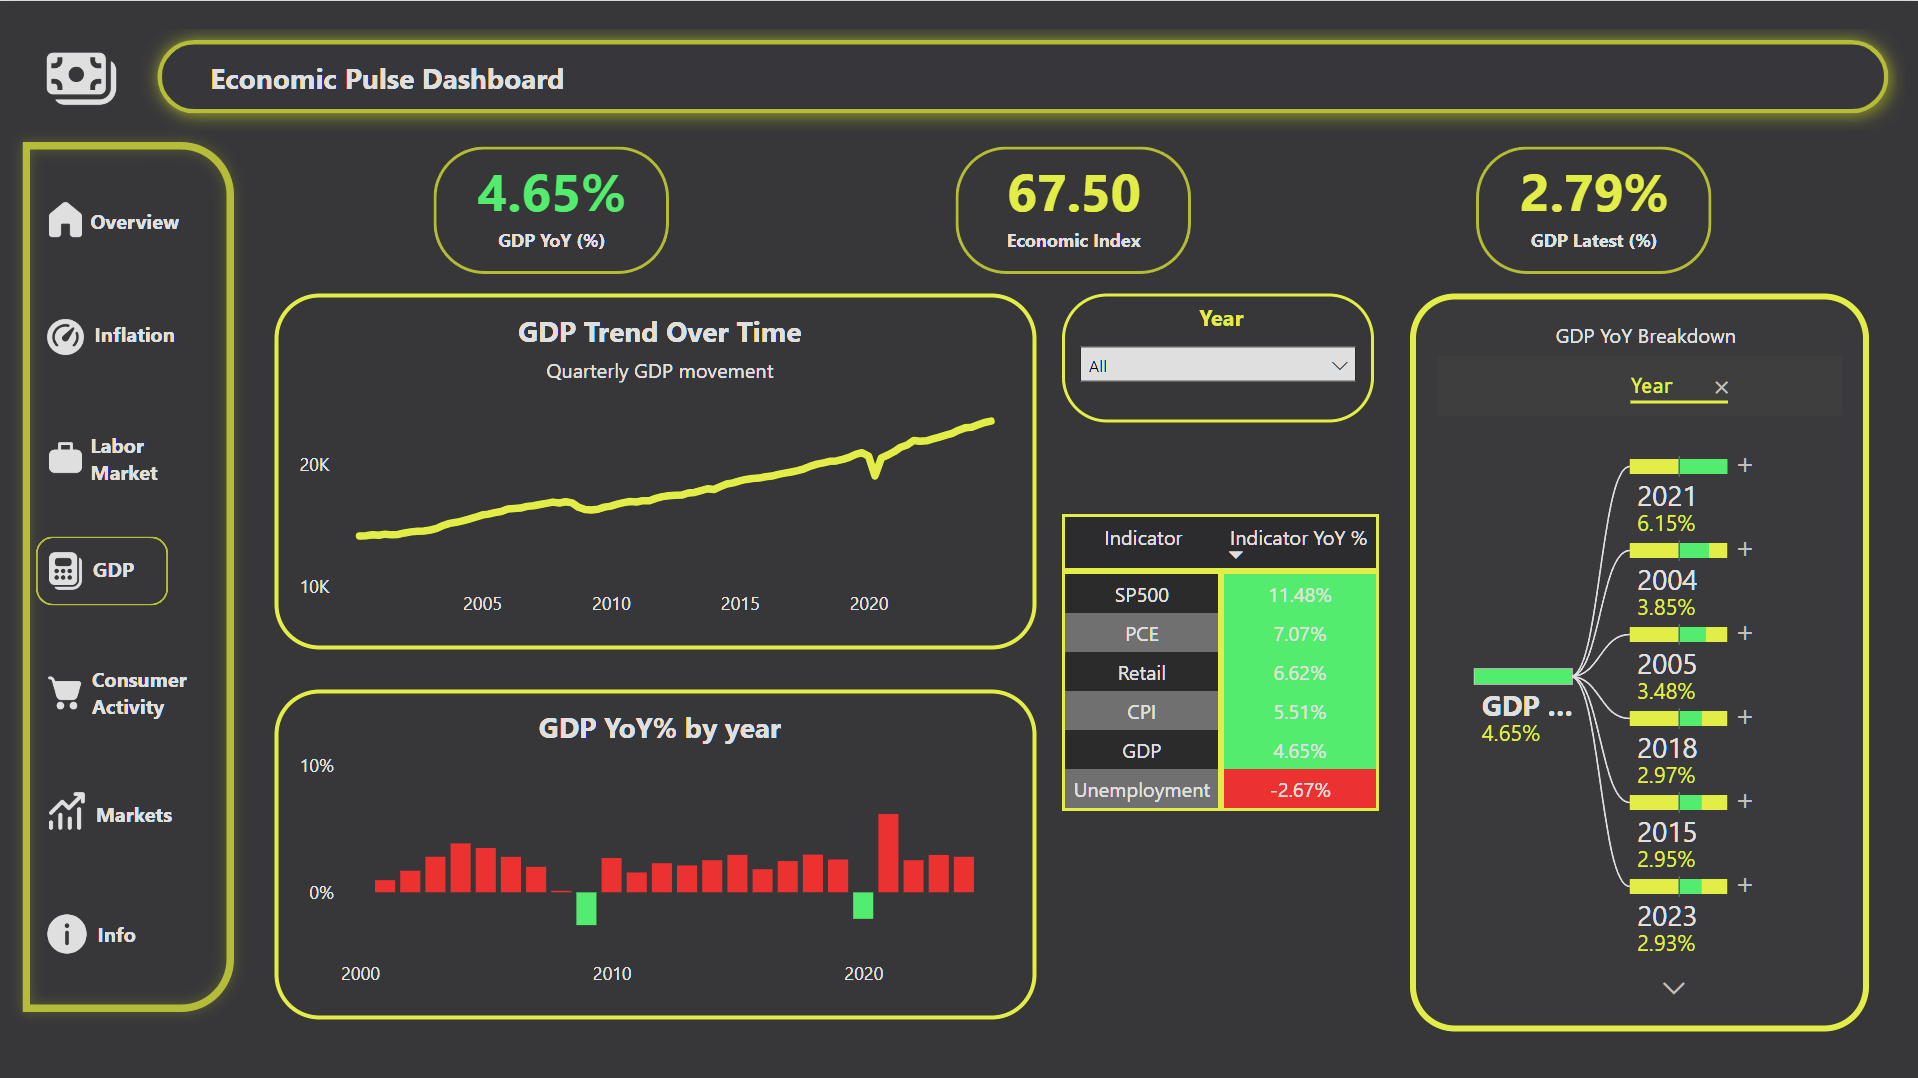

Layout of this report page (visuals, bound fields, positions):
{"tool":"powerbi","page":{"name":"GDP & Economic Output","canvas":[1280,720],"ordinal":3},"visuals":[{"type":"shape","title":"Economic Pulse Dashboard","box":[94.1,14.9,1176.2,70.8],"z":0},{"type":"group","id":"g1","title":"Group 1","box":[637.4,94.1,154.4,91.5],"z":0,"group":"g16"},{"type":"shape","box":[289.1,96.7,156.7,85.2],"z":0,"group":"g6"},{"type":"shape","box":[637.4,96.7,156.7,85.2],"z":0,"group":"g1"},{"type":"shape","box":[983.7,96.7,156.7,85.2],"z":0,"group":"g4"},{"type":"image","box":[29.2,195.4,29.6,58.1],"z":0,"group":"g3"},{"type":"image","box":[14.4,23.2,80,54.4],"z":1000},{"type":"card","fields":{"Values":["Measures_YoY.GDP YoY %"]},"box":[291.8,94.1,151.3,90.5],"z":1000,"group":"g6"},{"type":"card","fields":{"Values":["Measures_Scoring.Economic Index"]},"box":[640.1,94.1,151.3,90.5],"z":1000,"group":"g1"},{"type":"card","fields":{"Values":["Measures_YoY.GDP YoY %"]},"box":[986.4,94.1,151.3,90.5],"z":1000,"group":"g4"},{"type":"textbox","box":[38.6,207.6,102.6,51.8],"z":1000,"group":"g3"},{"type":"shape","box":[6.6,85.8,157.2,595.8],"z":2000},{"type":"shape","box":[17.4,201,104.4,47.4],"z":2000,"group":"g3"},{"type":"group","id":"g2","title":"Group 3","box":[23.4,116.7,112.1,79.1],"z":3000},{"type":"image","box":[29.2,116.7,29.6,58.1],"z":4000,"group":"g2"},{"type":"group","id":"g3","title":"Group 4","box":[17.4,195.4,123.8,64],"z":4000},{"type":"textbox","box":[56.5,436.7,76.2,69.6],"z":4000,"group":"g10"},{"type":"group","id":"g4","title":"Group 1","box":[983.7,94.1,156.3,90.5],"z":5000,"group":"g15"},{"type":"group","id":"g5","title":"Group 10","box":[24,351.2,87.6,69.6],"z":5000},{"type":"image","box":[29.2,351.2,29.6,58.1],"z":5000,"group":"g7"},{"type":"group","id":"g6","title":"Group 1","box":[289.1,94.1,156.3,90.5],"z":6000,"group":"g15"},{"type":"image","box":[29.2,276.1,29.6,58.1],"z":6000,"group":"g13"},{"type":"group","id":"g7","title":"Group 6","box":[29.2,351.2,80.9,69.6],"z":6000,"group":"g5"},{"type":"group","id":"g8","title":"Group 11","box":[25.2,432,107.5,74.4],"z":6000},{"type":"image","box":[29.2,432,29.6,58.1],"z":6000,"group":"g10"},{"type":"textbox","box":[44.2,131.8,91.3,64],"z":7000,"group":"g2"},{"type":"group","id":"g9","title":"Group 12","box":[22.2,511.4,125.6,76.2],"z":7000},{"type":"image","box":[29.2,511.4,29.6,58.1],"z":7000,"group":"g12"},{"type":"textbox","box":[41.4,364.4,68.7,56.5],"z":8000,"group":"g7"},{"type":"group","id":"g10","title":"Group 7","box":[29.2,432,103.5,74.4],"z":8000,"group":"g8"},{"type":"group","id":"g11","title":"Group 13","box":[14.4,593.2,111.7,59.3],"z":8000},{"type":"textbox","box":[54.6,280.8,90.4,89.4],"z":9000},{"type":"group","id":"g12","title":"Group 8","box":[29.2,511.4,118.6,76.2],"z":9000,"group":"g9"},{"type":"image","box":[29.2,593.2,30.6,58.1],"z":9000,"group":"g14"},{"type":"group","id":"g13","title":"Group 5","box":[23.4,276.1,93,58.1],"z":10000},{"type":"textbox","box":[30.1,527.4,117.6,60.2],"z":10000,"group":"g12"},{"type":"group","id":"g14","title":"Group 9","box":[29.2,593.2,96.9,59.3],"z":10000,"group":"g11"},{"type":"shape","box":[23.4,124.2,104.4,47.4],"z":10001,"group":"g2"},{"type":"group","id":"g15","title":"Group 2","box":[289.1,94.1,850.9,91.5],"z":11000},{"type":"shape","box":[23.4,281.4,93,47.4],"z":11000,"group":"g13"},{"type":"textbox","box":[29.2,607.3,96.9,45.2],"z":11000,"group":"g14"},{"type":"decompositionTreeVisual","fields":{"ExplainBy":["Calendar.Year","Labor_Market_Merged.Unemployment_YoY","Labor_Market_Merged.Retail_YoY","Labor_Market_Merged.PCE_YoY","Labor_Market_Merged.CPI_YoY","Labor_Market_Merged.SP500_YoY"],"Analyze":["Measures_YoY.GDP YoY %"]},"box":[940.2,195.1,305.6,492.1],"z":12000},{"type":"shape","box":[24,357.5,87.6,45.7],"z":12002,"group":"g5"},{"type":"shape","box":[25.2,437.4,104.4,47.4],"z":12004,"group":"g8"},{"type":"shape","box":[22.2,516.6,104.4,47.4],"z":12006,"group":"g9"},{"type":"shape","box":[14.4,598.8,104.4,47.4],"z":12008,"group":"g11"},{"type":"group","id":"g16","title":"Group 14","box":[637.4,94.1,154.4,91.5],"z":13000,"group":"g15"},{"type":"lineChart","title":"GDP Trend Over Time","fields":{"Y":["Sum(GDP.GDP_Value)"],"Category":["Calendar.Date"]},"box":[183,195.1,507.6,236.5],"z":13000},{"type":"clusteredColumnChart","title":"GDP YoY% by year ","fields":{"Category":["Calendar.Year"],"Y":["Measures_YoY.GDP YoY %"]},"box":[182.9,459.3,507.9,220.1],"z":14000},{"type":"pivotTable","fields":{"Rows":["Indicators.Indicator"],"Values":["Measures_YoY.Indicator YoY %"]},"box":[707.9,341.9,219.3,237.4],"z":15000},{"type":"slicer","title":"Year","fields":{"Values":["Calendar.Year"]},"box":[707.9,195.1,208.1,86.3],"z":16000}]}

Visuals, with their boxes in screenshot pixels (x1, y1, x2, y2), scaled from the page's 1280x720 canvas onto the 1918x1078 screenshot:
"Economic Pulse Dashboard" shape: (x1=141, y1=22, x2=1903, y2=128)
"Group 1" group: (x1=955, y1=141, x2=1186, y2=278)
shape: (x1=433, y1=145, x2=668, y2=272)
shape: (x1=955, y1=145, x2=1190, y2=272)
shape: (x1=1474, y1=145, x2=1709, y2=272)
image: (x1=44, y1=293, x2=88, y2=380)
image: (x1=22, y1=35, x2=141, y2=116)
card - Measures_YoY.GDP YoY %: (x1=437, y1=141, x2=664, y2=276)
card - Measures_Scoring.Economic Index: (x1=959, y1=141, x2=1186, y2=276)
card - Measures_YoY.GDP YoY %: (x1=1478, y1=141, x2=1705, y2=276)
textbox: (x1=58, y1=311, x2=212, y2=388)
shape: (x1=10, y1=128, x2=245, y2=1021)
shape: (x1=26, y1=301, x2=183, y2=372)
"Group 3" group: (x1=35, y1=175, x2=203, y2=293)
image: (x1=44, y1=175, x2=88, y2=262)
"Group 4" group: (x1=26, y1=293, x2=212, y2=388)
textbox: (x1=85, y1=654, x2=199, y2=758)
"Group 1" group: (x1=1474, y1=141, x2=1708, y2=276)
"Group 10" group: (x1=36, y1=526, x2=167, y2=630)
image: (x1=44, y1=526, x2=88, y2=613)
"Group 1" group: (x1=433, y1=141, x2=667, y2=276)
image: (x1=44, y1=413, x2=88, y2=500)
"Group 6" group: (x1=44, y1=526, x2=165, y2=630)
"Group 11" group: (x1=38, y1=647, x2=199, y2=758)
image: (x1=44, y1=647, x2=88, y2=734)
textbox: (x1=66, y1=197, x2=203, y2=293)
"Group 12" group: (x1=33, y1=766, x2=221, y2=880)
image: (x1=44, y1=766, x2=88, y2=853)
textbox: (x1=62, y1=546, x2=165, y2=630)
"Group 7" group: (x1=44, y1=647, x2=199, y2=758)
"Group 13" group: (x1=22, y1=888, x2=189, y2=977)
textbox: (x1=82, y1=420, x2=217, y2=554)
"Group 8" group: (x1=44, y1=766, x2=221, y2=880)
image: (x1=44, y1=888, x2=90, y2=975)
"Group 5" group: (x1=35, y1=413, x2=174, y2=500)
textbox: (x1=45, y1=790, x2=221, y2=880)
"Group 9" group: (x1=44, y1=888, x2=189, y2=977)
shape: (x1=35, y1=186, x2=192, y2=257)
"Group 2" group: (x1=433, y1=141, x2=1708, y2=278)
shape: (x1=35, y1=421, x2=174, y2=492)
textbox: (x1=44, y1=909, x2=189, y2=977)
decompositionTreeVisual - Calendar.Year x Labor_Market_Merged.Unemployment_YoY: (x1=1409, y1=292, x2=1867, y2=1029)
shape: (x1=36, y1=535, x2=167, y2=604)
shape: (x1=38, y1=655, x2=194, y2=726)
shape: (x1=33, y1=773, x2=190, y2=844)
shape: (x1=22, y1=897, x2=178, y2=968)
"Group 14" group: (x1=955, y1=141, x2=1186, y2=278)
"GDP Trend Over Time" lineChart: (x1=274, y1=292, x2=1035, y2=646)
"GDP YoY% by year " clusteredColumnChart: (x1=274, y1=688, x2=1035, y2=1017)
pivotTable - Indicators.Indicator x Measures_YoY.Indicator YoY %: (x1=1061, y1=512, x2=1389, y2=867)
"Year" slicer: (x1=1061, y1=292, x2=1373, y2=421)
